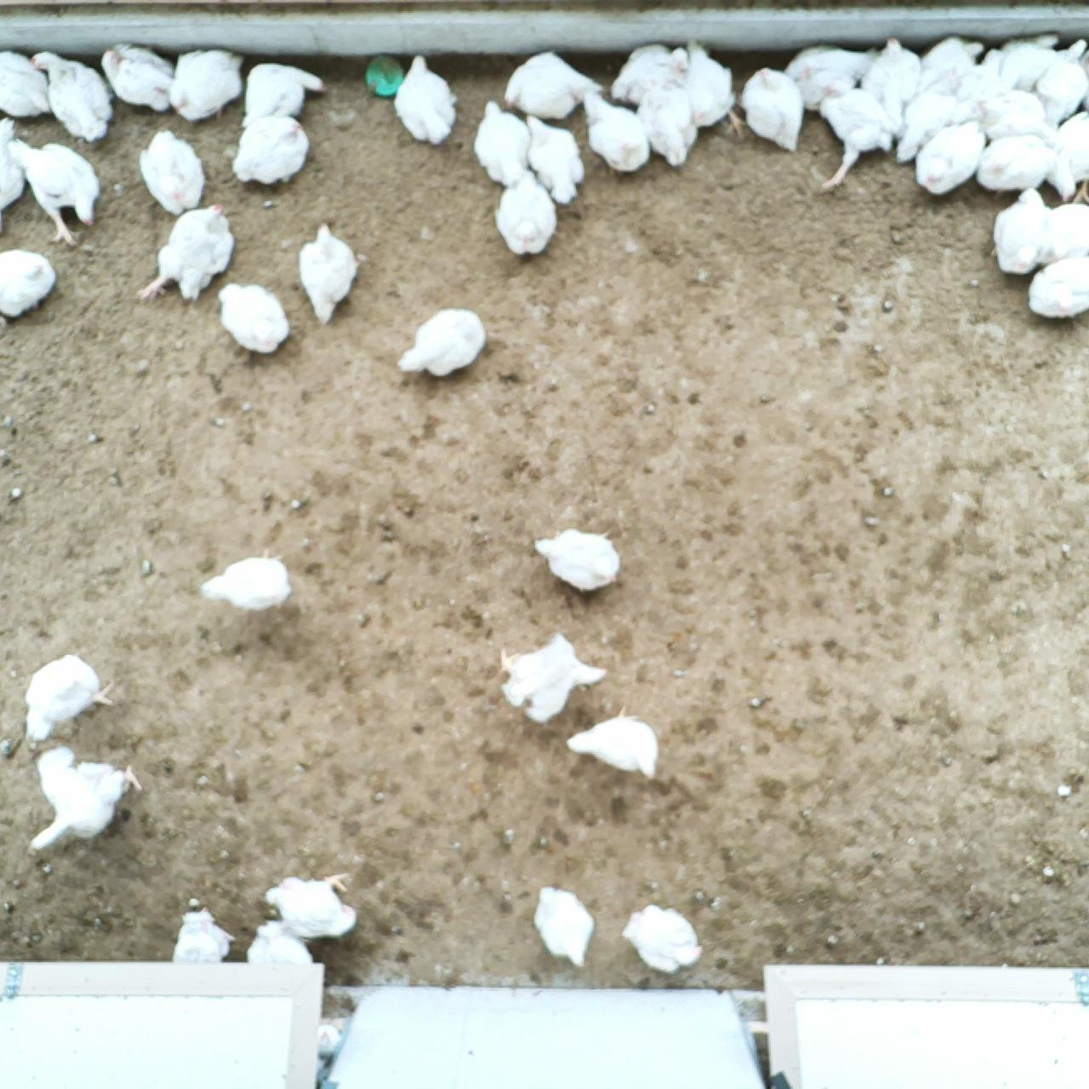chicken: (26, 745, 146, 865), (136, 202, 240, 310), (496, 631, 610, 725), (11, 138, 106, 248), (815, 76, 896, 192), (23, 653, 117, 745), (29, 48, 114, 145), (565, 705, 666, 784), (198, 541, 299, 617), (678, 41, 750, 142), (889, 67, 963, 164), (264, 869, 365, 940), (503, 44, 601, 117), (527, 525, 626, 595), (296, 218, 362, 322), (390, 49, 459, 147), (397, 306, 488, 380), (909, 121, 990, 201), (165, 41, 245, 122), (136, 125, 208, 214), (577, 90, 653, 174), (619, 902, 704, 977), (780, 41, 880, 104), (229, 113, 312, 188), (637, 78, 701, 173), (469, 96, 535, 188), (239, 54, 329, 121), (524, 114, 588, 208), (861, 35, 925, 128), (216, 280, 292, 358), (532, 882, 596, 973), (738, 65, 804, 153), (495, 171, 560, 258), (103, 41, 180, 113), (1033, 37, 1089, 130), (608, 39, 690, 102), (988, 185, 1046, 272), (1019, 254, 1089, 325), (0, 248, 60, 326), (973, 88, 1061, 140), (993, 30, 1062, 96), (974, 139, 1053, 195), (164, 908, 237, 965), (939, 46, 1009, 104), (914, 33, 983, 91), (0, 46, 52, 121), (240, 922, 318, 971), (1051, 105, 1089, 204), (0, 114, 31, 232), (1042, 199, 1089, 263)
